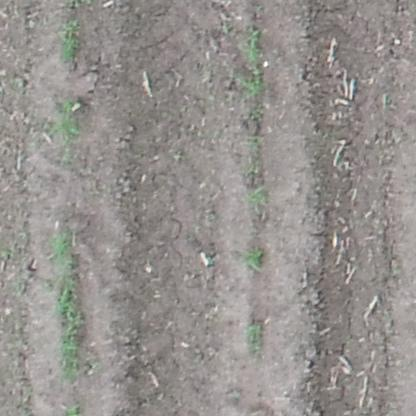corn: (53, 277, 91, 372), (55, 19, 85, 65), (50, 97, 80, 139), (48, 224, 72, 266), (240, 242, 267, 273), (243, 30, 263, 69)
